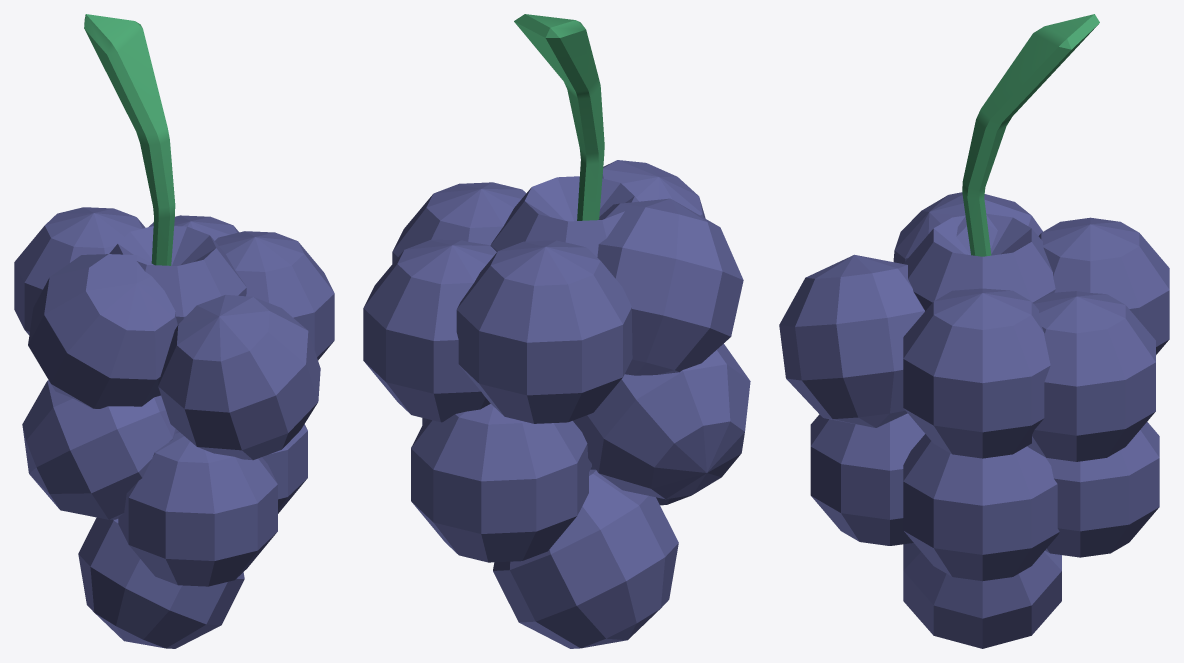
The model's file is UVA.fbx.
3 views of the same model, side by side, from view 1: azimuth 30°, elevation 25°; view 2: azimuth 150°, elevation 25°; view 3: azimuth 270°, elevation 25° (orthographic). The views are drawn at different scales.
Parts seen in each view (by area): view 1: polySurface1; view 2: polySurface1; view 3: polySurface1.
Part boxes in pixels (x1,y1,x2,y2): polySurface1: [14, 14, 334, 648]; polySurface1: [363, 14, 750, 648]; polySurface1: [779, 14, 1169, 648].
Bounding box in the file's own units: 4.07 × 7.79 × 4.45.
